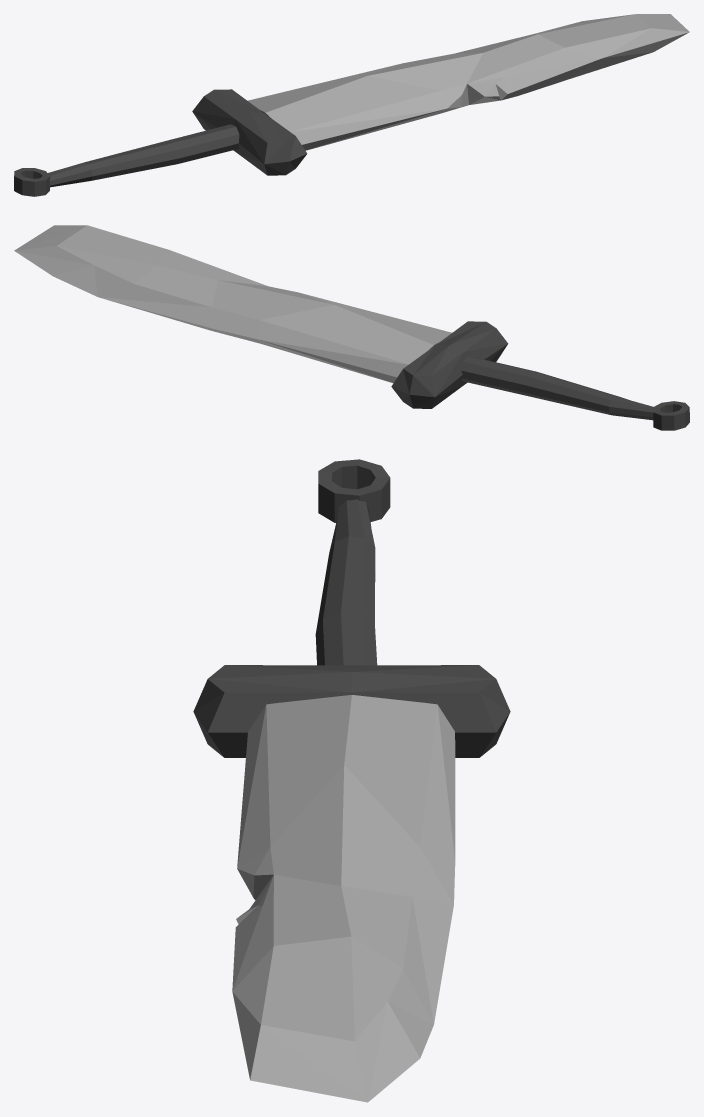
Rendered from Sword.fbx.
3 views of the same model, one above another, from view 1: azimuth 30°, elevation 25°; view 2: azimuth 150°, elevation 25°; view 3: azimuth 270°, elevation 25° (orthographic). The views are drawn at different scales.
Parts seen in each view (by area): view 1: Weapon; view 2: Weapon; view 3: Weapon.
Boxes of the visible parts, x1,y1,x2,y2 form: Weapon: (14, 14, 689, 196); Weapon: (14, 225, 689, 430); Weapon: (193, 459, 510, 1102).
Size of the model in its own units: 575 by 41.46 by 120.
